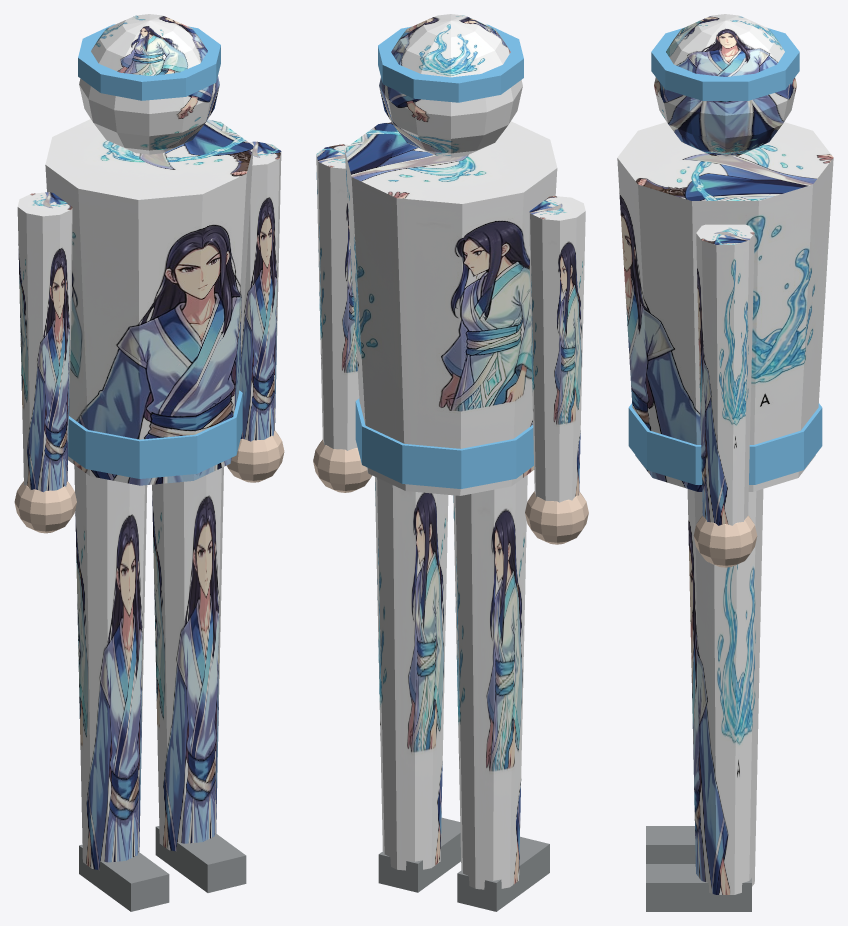
3 views of the same model, side by side, from view 1: azimuth 30°, elevation 25°; view 2: azimuth 150°, elevation 25°; view 3: azimuth 270°, elevation 25° (orthographic). The views are drawn at different scales.
Parts seen in each view (by area): view 1: torso, thighR, thighL, armR, head, armL, belt, band, footL, footR, handR, handL; view 2: torso, thighR, thighL, armR, head, armL, belt, band, footR, footL, handR, handL; view 3: torso, thighL, armL, head, belt, band, footL, handL, footR.
Part boxes in pixels (x1,y1,x2,y2): torso: [45, 119, 253, 485]; thighR: [74, 465, 147, 870]; thighL: [152, 467, 223, 851]; armR: [17, 192, 72, 492]; head: [79, 14, 219, 154]; armL: [239, 141, 281, 441]; belt: [68, 390, 242, 478]; band: [78, 24, 220, 100]; footL: [155, 826, 246, 892]; footR: [79, 844, 169, 911]; handR: [14, 481, 76, 533]; handL: [226, 430, 284, 482]; torso: [344, 121, 557, 495]; thighR: [453, 475, 527, 889]; thighL: [375, 477, 448, 870]; armR: [529, 196, 585, 502]; head: [379, 14, 522, 157]; armL: [316, 144, 359, 450]; belt: [355, 398, 533, 488]; band: [378, 24, 523, 102]; footR: [457, 836, 549, 911]; footL: [378, 817, 460, 892]; handR: [525, 491, 588, 544]; handL: [313, 439, 372, 492]; torso: [617, 122, 833, 491]; thighL: [687, 489, 763, 894]; armL: [696, 224, 754, 525]; head: [654, 14, 796, 156]; belt: [628, 403, 822, 484]; band: [651, 28, 799, 100]; footL: [646, 864, 751, 911]; handL: [693, 515, 757, 567]; footR: [646, 826, 695, 863].
Bounding box in the file's own units: 0.579 × 1.79 × 0.408.
Materials: 4 (1 with a texture image).
